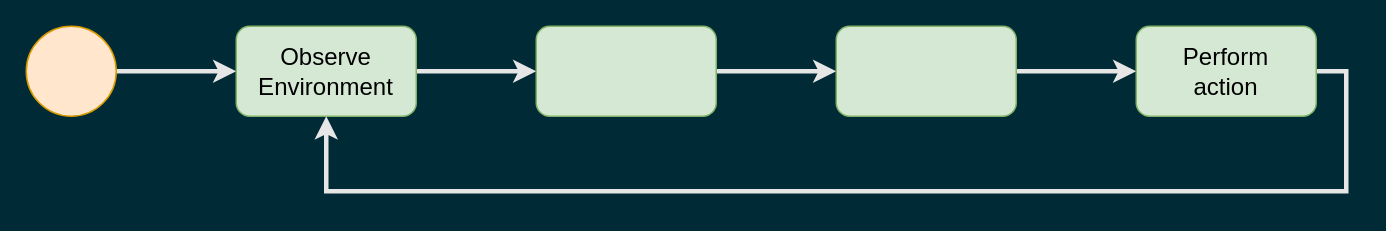
Image size: 1386x231. Some labels were removed from this diagram. The centre of each missing label's shape, as x and y in pixels:
"Generate percept" goes at point (625, 70).
"Update internal state" goes at point (925, 70).
